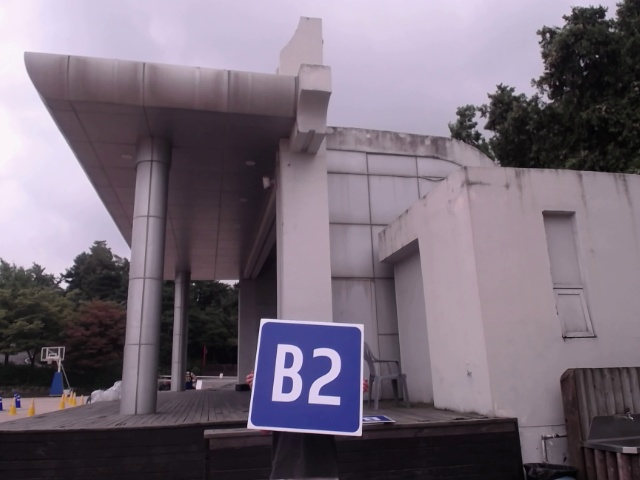delivery_b2: (249, 319, 363, 433)
